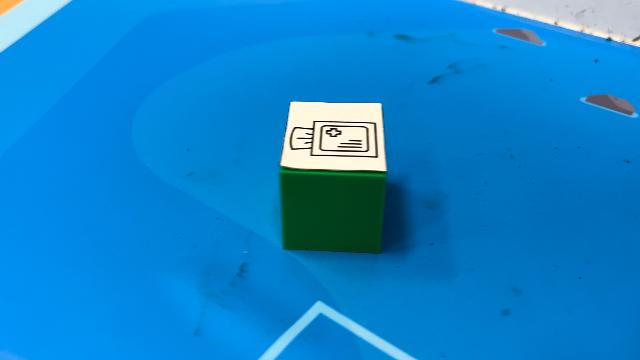napkin: (278, 100, 389, 253)
